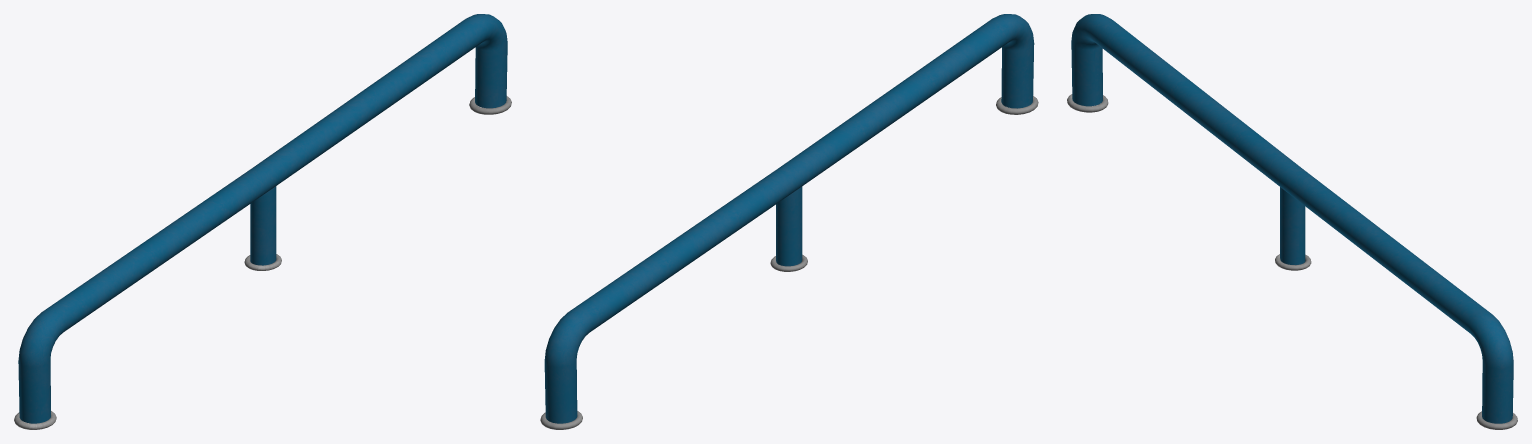
Rendered from SM_075_Guardrail_02_2.fbx.
3 renders of one model, left to right at view 1: azimuth 30°, elevation 25°; view 2: azimuth 210°, elevation 25°; view 3: azimuth 270°, elevation 25°, orthographic. The views are drawn at different scales.
Visible parts, largest first — view 1: SM_075_Guardrail_02_2; view 2: SM_075_Guardrail_02_2; view 3: SM_075_Guardrail_02_2.
Part boxes in pixels (box(x1,y1,x2,y2)): SM_075_Guardrail_02_2: box(14, 14, 511, 429); SM_075_Guardrail_02_2: box(540, 14, 1038, 429); SM_075_Guardrail_02_2: box(1067, 14, 1517, 429).
Size of the model in its own units: 157 by 89.3 by 21.6.
Materials: 1 (1 with a texture image).
